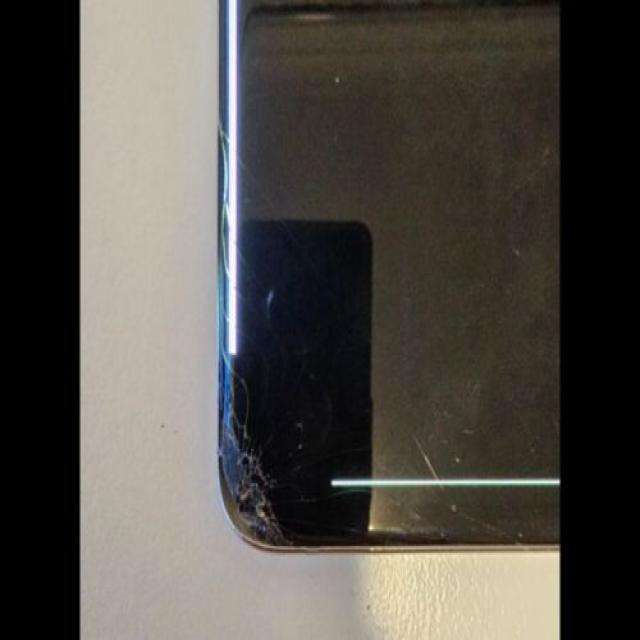Crack: (186, 123, 320, 563)
